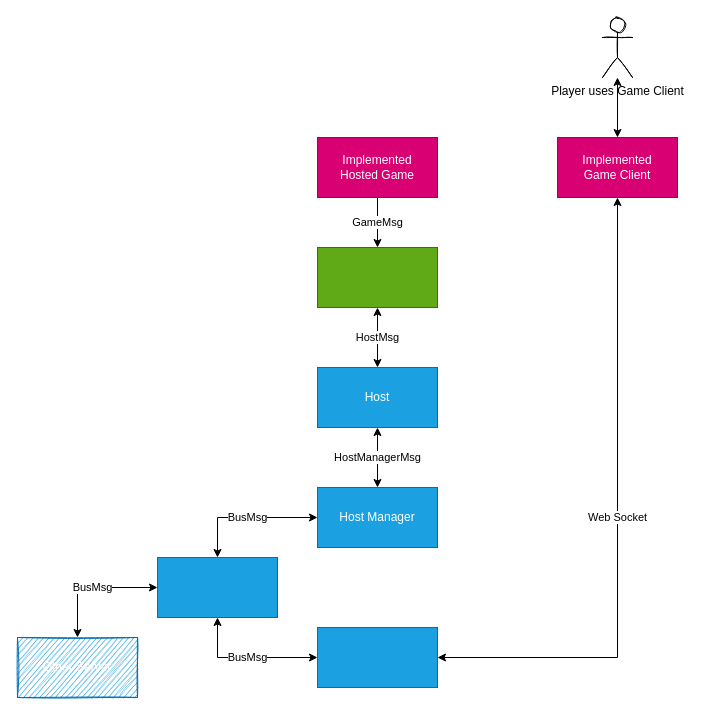
The diagram is 701 pixels wide and 715 high, and some of its shapes have lost their labels. Here are the shapes that lost their labels. From the top down, the centre of each, then its label:
At pixel 377 277: "Hosted Game".
At pixel 217 587: "Bus".
At pixel 377 657: "WS Server".
